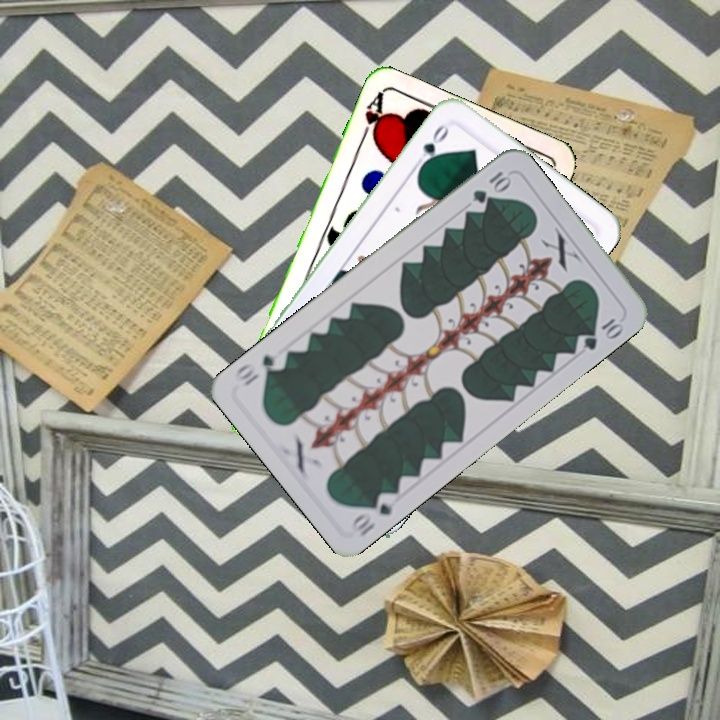G10: (348, 487, 396, 540), (468, 167, 514, 206)
GO: (411, 120, 455, 172)
HA: (355, 88, 388, 146)
